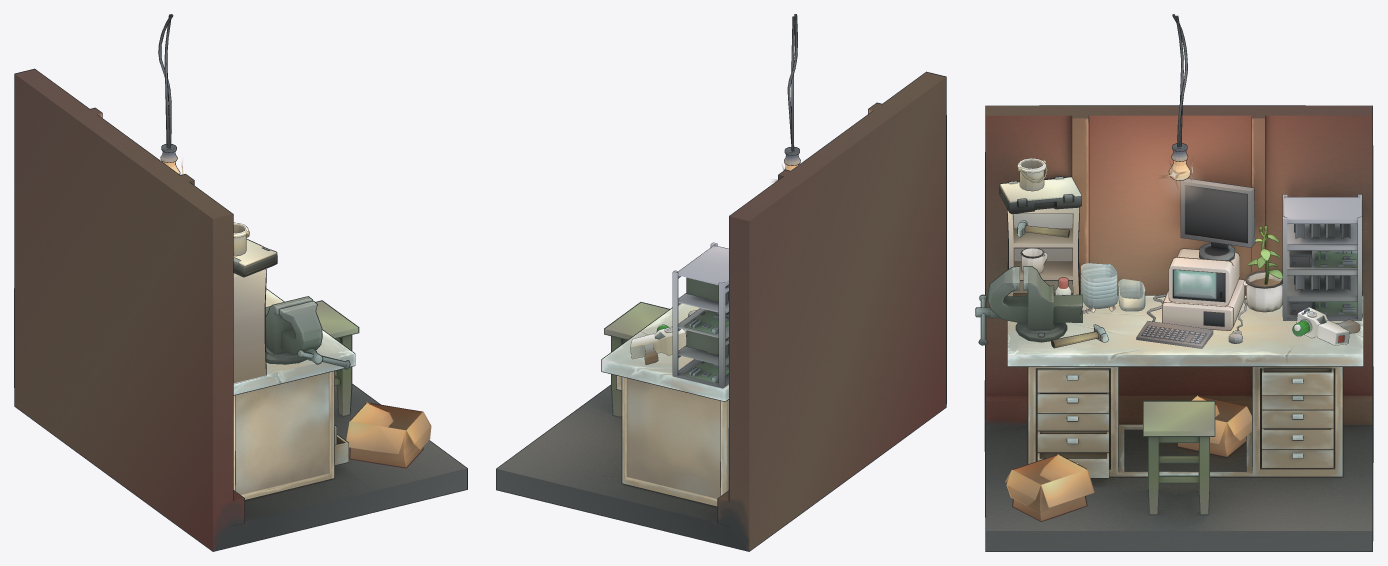
Rendered from garage-workbench.glb.
The picture shows the model from 3 angles, left to right: view 1: azimuth 30°, elevation 25°; view 2: azimuth 150°, elevation 25°; view 3: azimuth 270°, elevation 25°; orthographic projection. The views are drawn at different scales.
Parts seen in each view (by area): view 1: Plane.011, Plane, Box -2 .001, Cube, Plane.004, Plane.018, BezierCurve.001, Plane.005; view 2: Plane.011, Plane, Plane.013, Plane.018, Plane.008, Plane.014, Plane.015, BezierCurve.001; view 3: Plane.011, Plane, Plane.013, Plane.009, Plane.018, Cube, Plane.017, Box -2 .001, Plane.004, Plane.005, Box -2 _Material.007_0, Plane.010 (+14 smaller).
Part boxes in pixels (x1,y1,x2,y2): Plane.011: (14, 68, 467, 551); Plane: (233, 288, 355, 500); Box -2 .001: (346, 402, 431, 468); Cube: (265, 296, 350, 369); Plane.004: (233, 268, 266, 383); Plane.018: (316, 300, 359, 416); BezierCurve.001: (158, 14, 180, 174); Plane.005: (233, 239, 277, 277); Plane.011: (496, 71, 946, 551); Plane: (601, 303, 728, 506); Plane.013: (672, 242, 728, 388); Plane.018: (604, 302, 669, 417); Plane.008: (630, 324, 686, 364); Plane.014: (686, 277, 728, 357); Plane.015: (684, 310, 728, 382); BezierCurve.001: (784, 14, 800, 170); Plane.011: (984, 105, 1373, 551); Plane: (1007, 295, 1363, 478); Plane.013: (1282, 194, 1362, 320); Plane.009: (1162, 248, 1244, 330); Plane.018: (1143, 400, 1215, 515); Cube: (975, 266, 1082, 345); Plane.017: (1180, 178, 1255, 260); Box -2 .001: (1005, 454, 1094, 521); Plane.004: (1007, 207, 1080, 296); Plane.005: (999, 176, 1081, 214); Box -2 _Material.007_0: (1178, 395, 1251, 456); Plane.010: (1136, 294, 1213, 348).
Size of the model in its own units: 1.52 by 2.59 by 2.11.
Materials: 36 (29 with a texture image).
